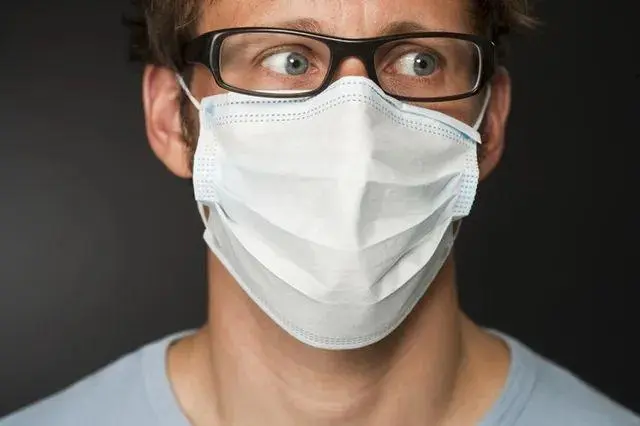withmask: (132, 2, 527, 358)
